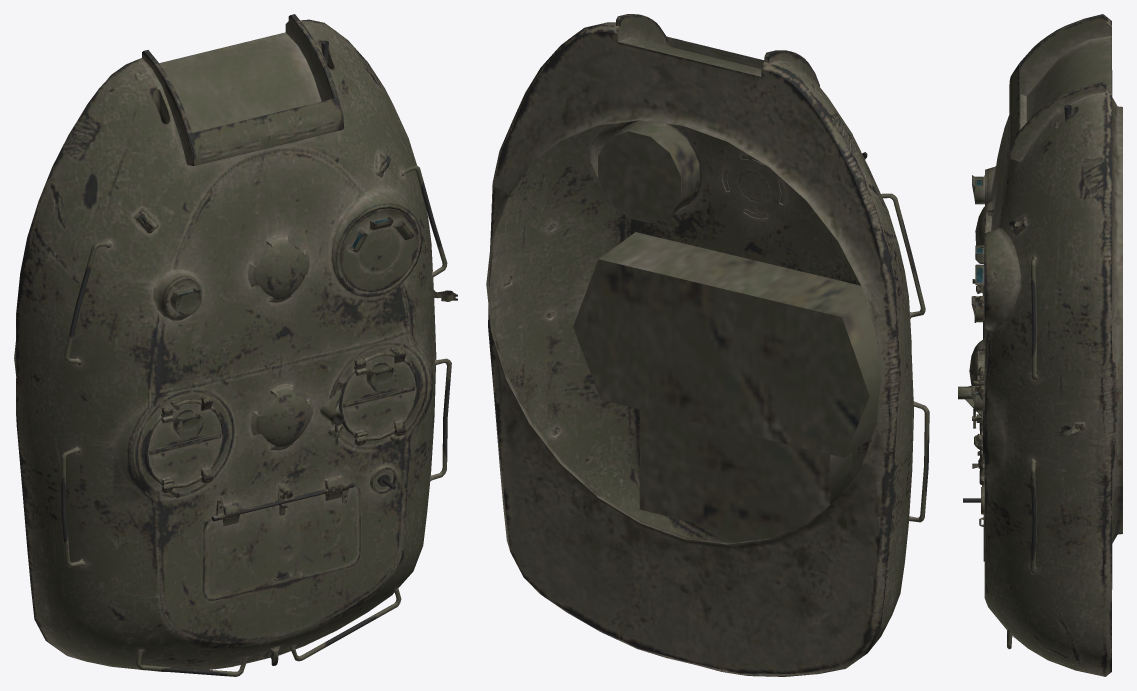
The model's file is Turret_02.glb.
3 renders of one model, left to right at view 1: azimuth 30°, elevation 25°; view 2: azimuth 150°, elevation 25°; view 3: azimuth 270°, elevation 25°, orthographic. The views are drawn at different scales.
Visible parts, largest first — view 1: set_0_group_0; view 2: set_0_group_0; view 3: set_0_group_0.
Boxes of the visible parts, x1,y1,x2,y2 form: set_0_group_0: [14, 14, 457, 676]; set_0_group_0: [486, 14, 929, 676]; set_0_group_0: [958, 14, 1122, 676].
Size of the model in its own units: 2.68 by 3.82 by 0.9657.
Materials: 1 (1 with a texture image).
